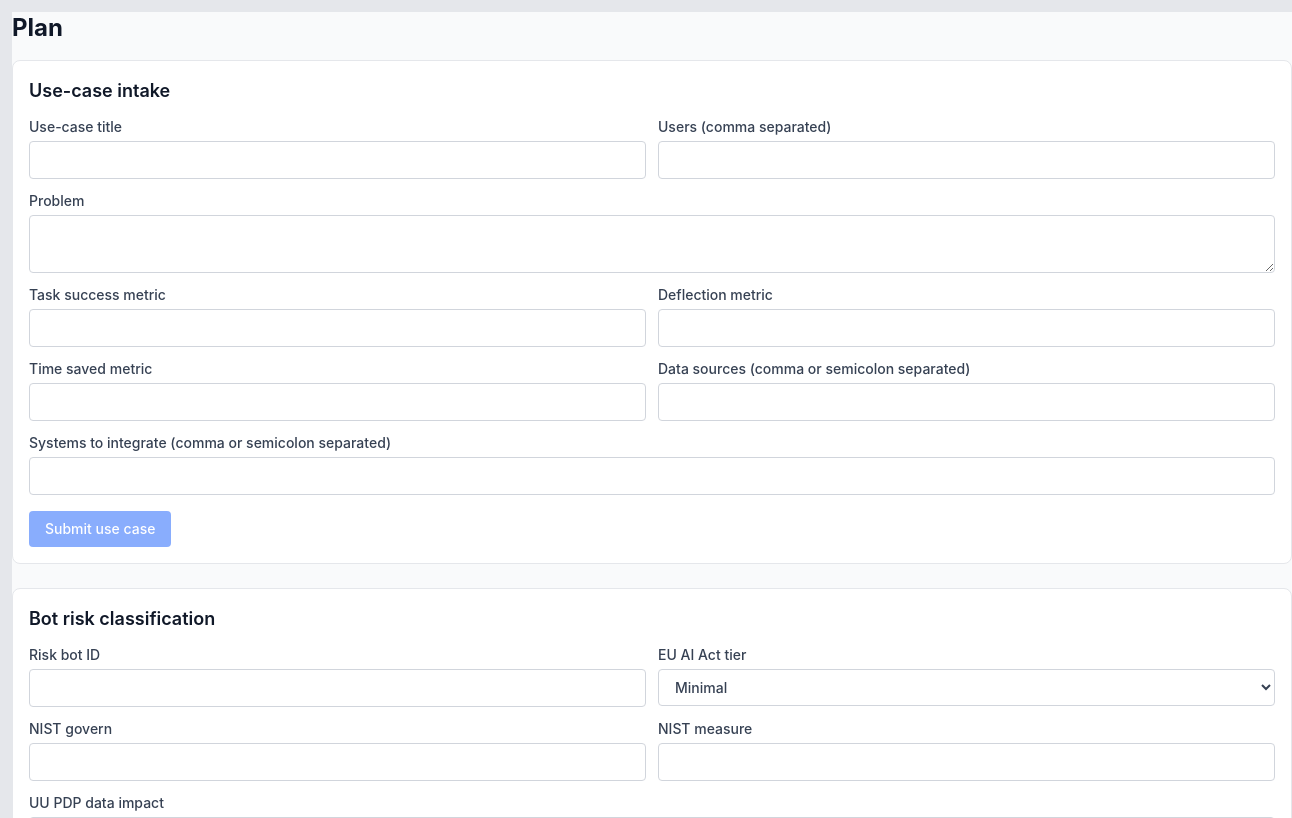
Test: PlanScreen › shows a generic localized error without server text
The image size is (1292, 818).
In the field labelled "Use-case title": (338, 160) [29, 141, 646, 179], type "HR assistant"
In the text box labelled "Problem": (652, 244) [29, 215, 1275, 273], type "Answer HR policy questions"
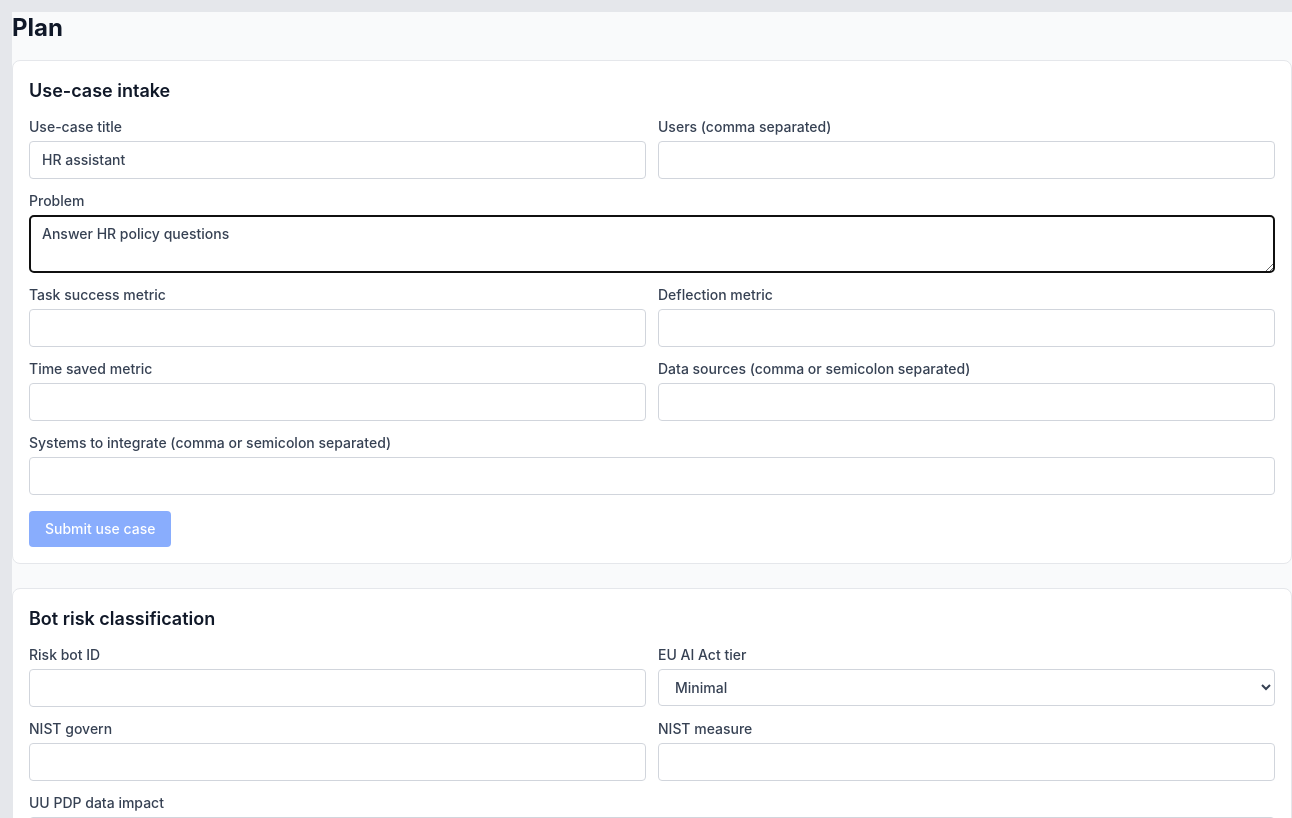
In the field labelled "Users (comma separated)": (966, 160) [658, 141, 1275, 179], type "HR staff, Employees"
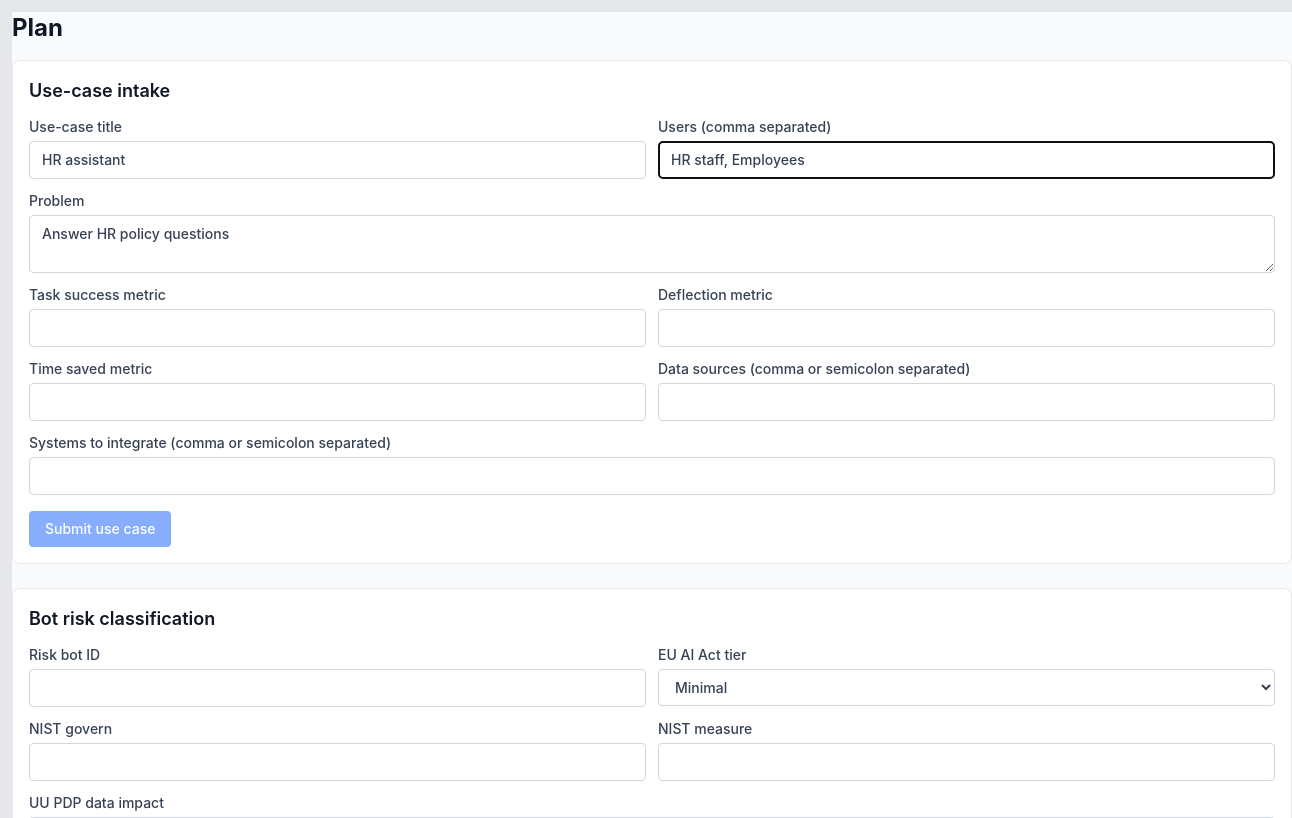
In the field labelled "Task success metric": (338, 328) [29, 309, 646, 347], type "85% answered correctly"
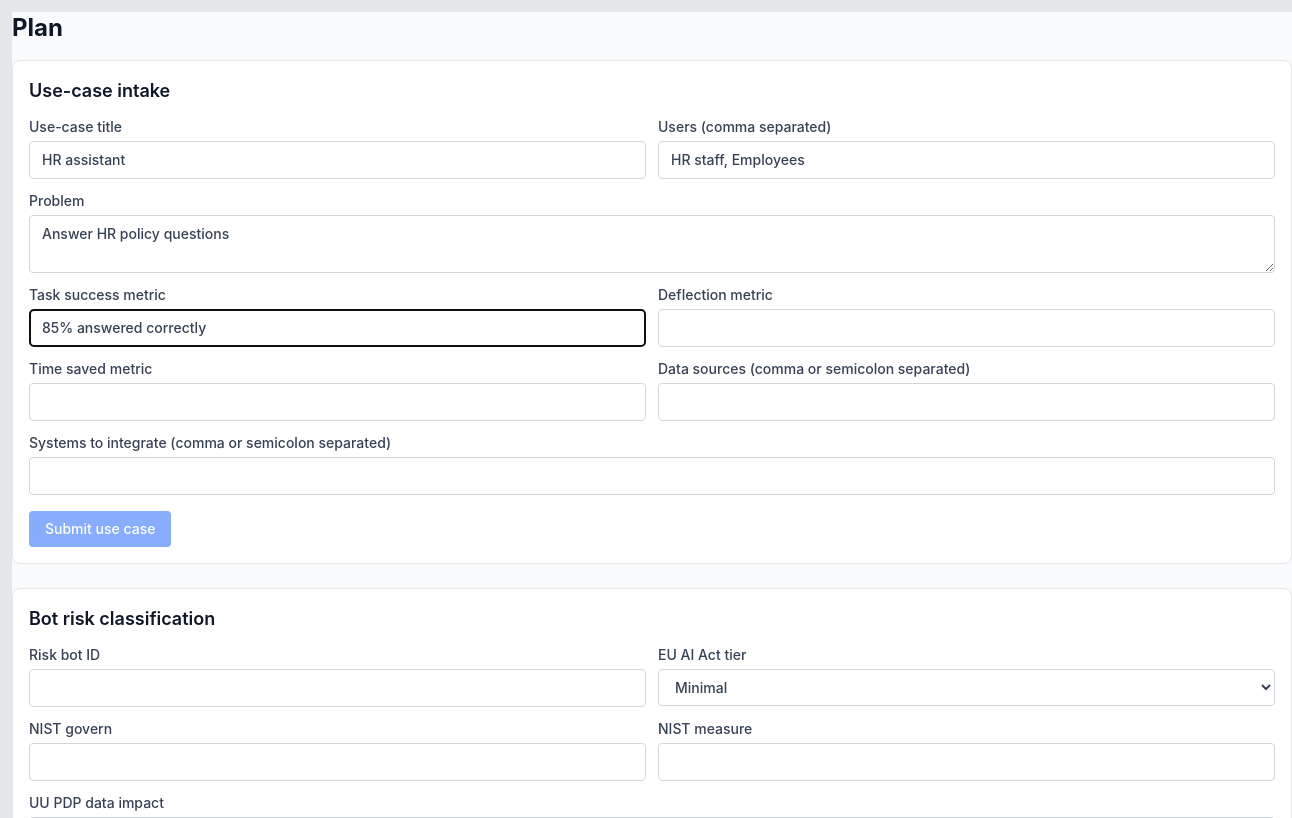
In the field labelled "Deflection metric": (966, 328) [658, 309, 1275, 347], type "30% fewer tickets"
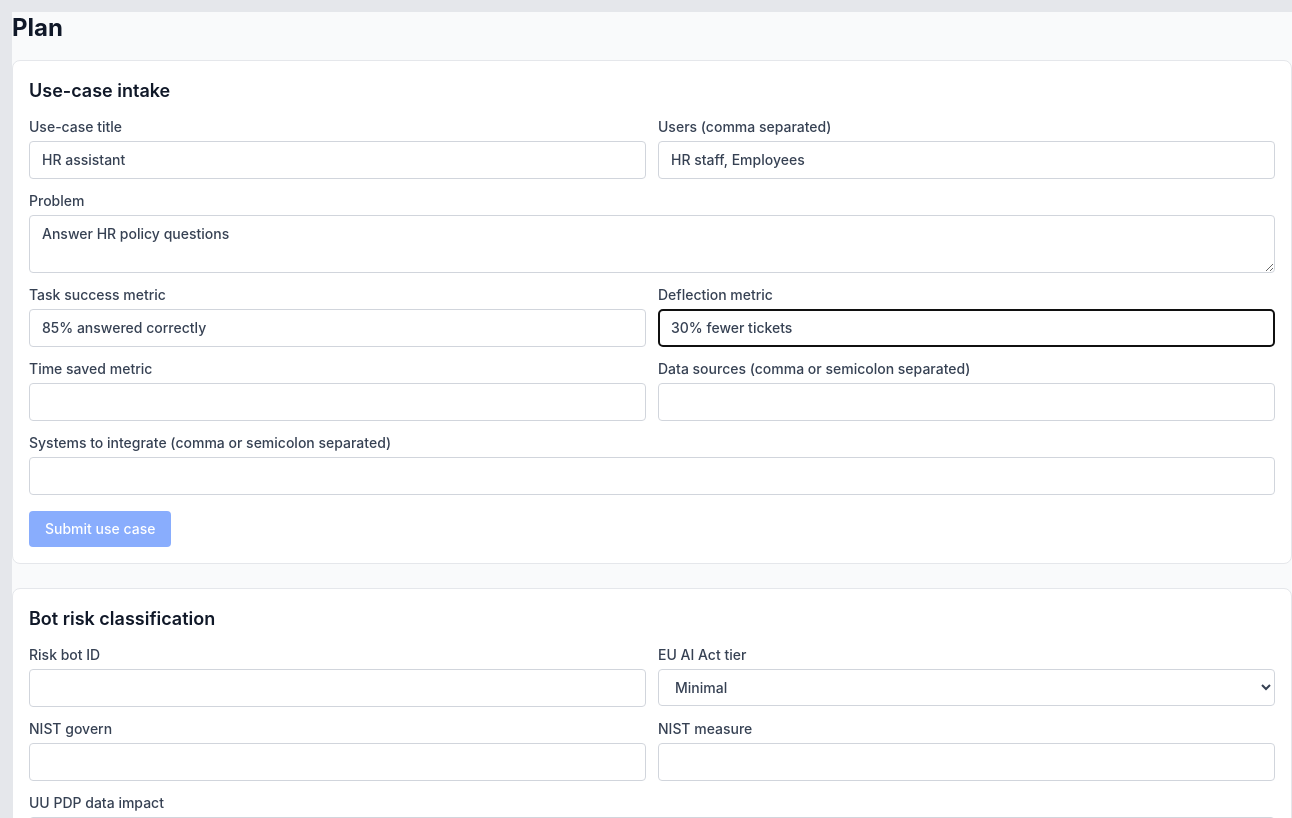
In the field labelled "Time saved metric": (338, 402) [29, 383, 646, 421], type "10 min per question"
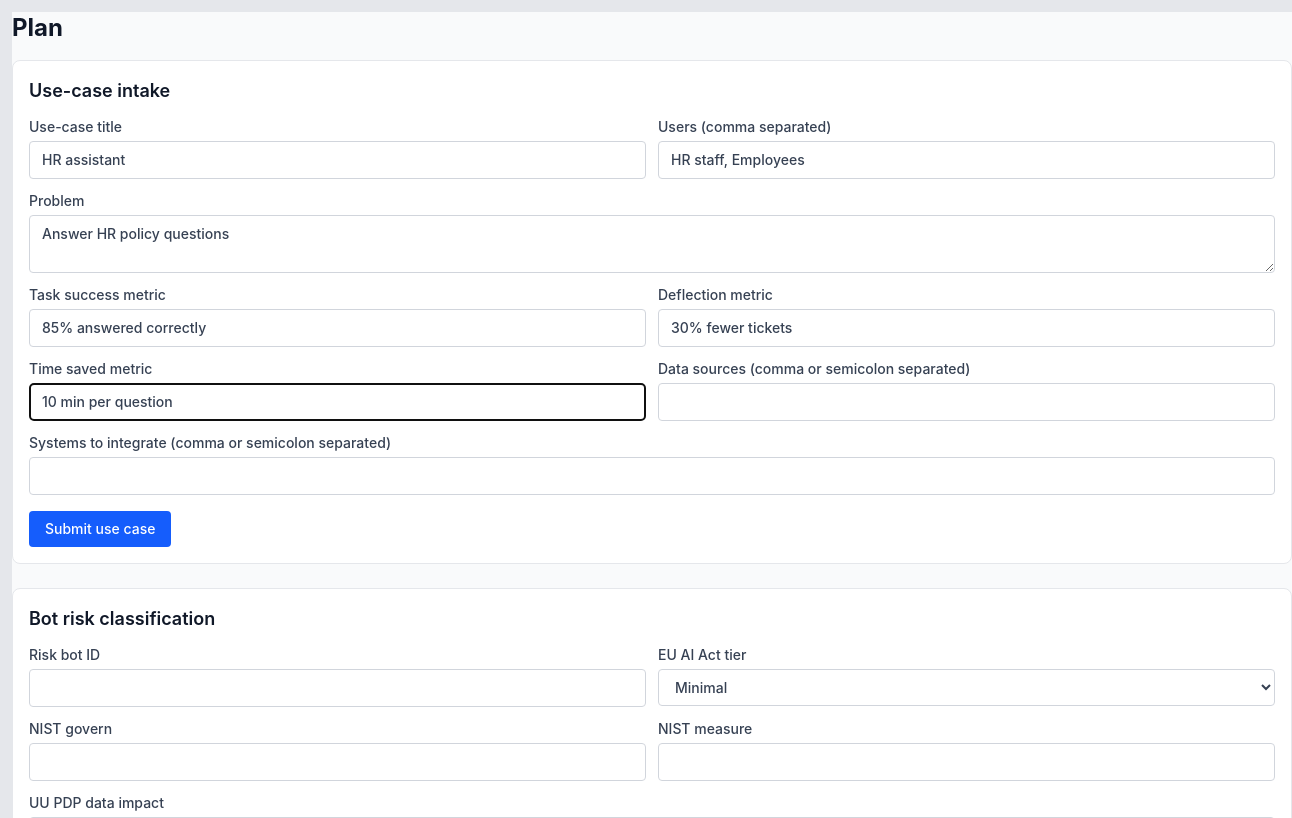
Click the button "Submit use case": (100, 529) [29, 511, 171, 547]
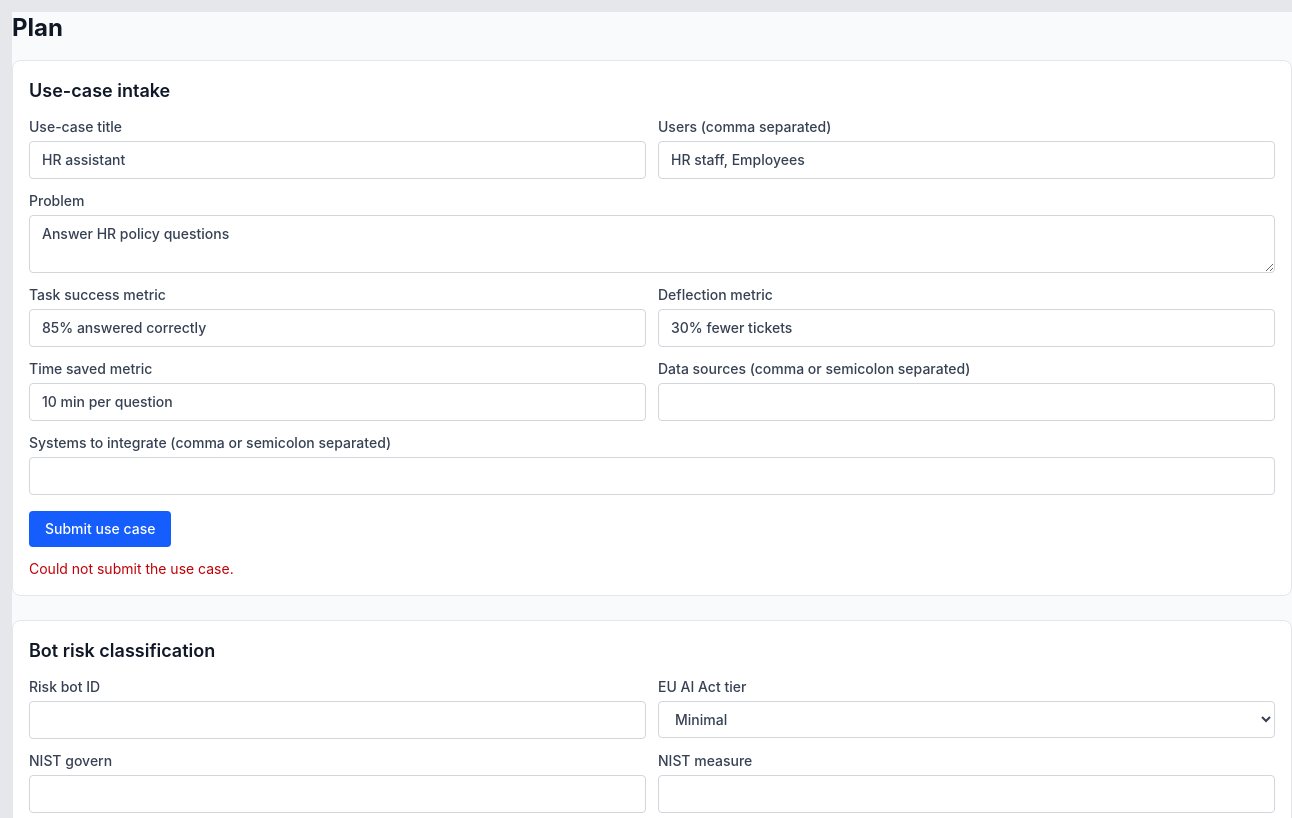
Expected: the message shows "Could not submit", [29, 560, 234, 577]
